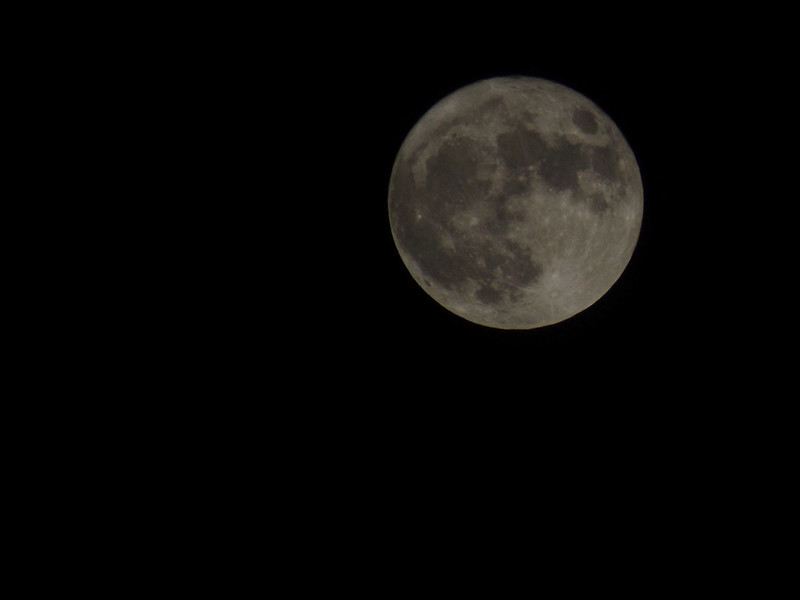crater: (489, 117, 551, 184), (530, 273, 577, 308), (563, 103, 603, 143), (456, 201, 492, 238), (403, 204, 434, 228), (421, 275, 439, 290), (537, 211, 552, 226), (447, 127, 461, 143), (574, 167, 587, 182)
